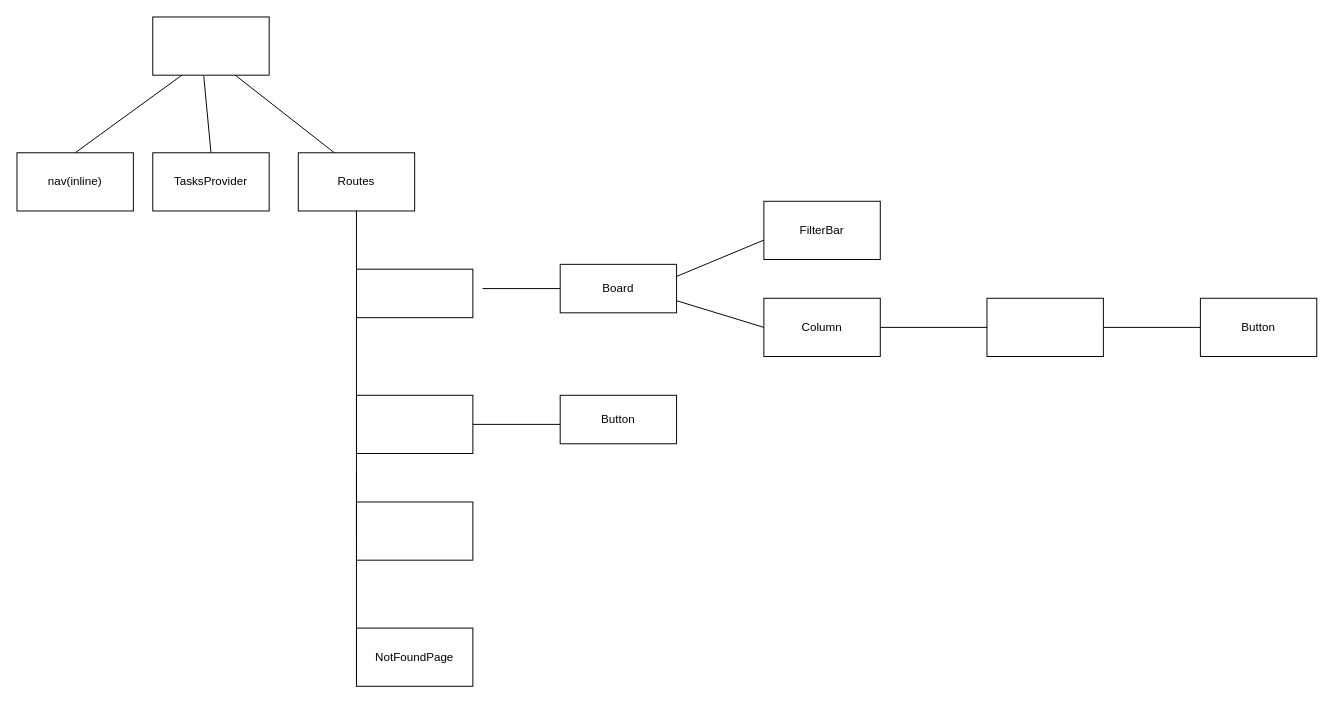
Some shapes in this 1334 by 704 pixel diagram are drawn without their labels. The centre of each missing label's shape, as x and y in pixels:
"APP" goes at point (210, 45).
"BoardPage" goes at point (414, 293).
"NewTaskPage" goes at point (414, 423).
"TaskCard" goes at point (1044, 326).
"TaskDetailPage" goes at point (414, 530).
